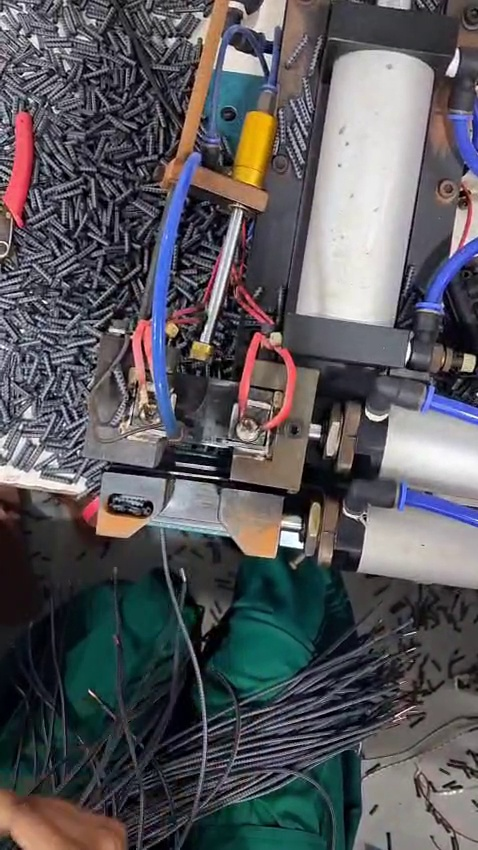machine: (88, 306, 328, 522)
